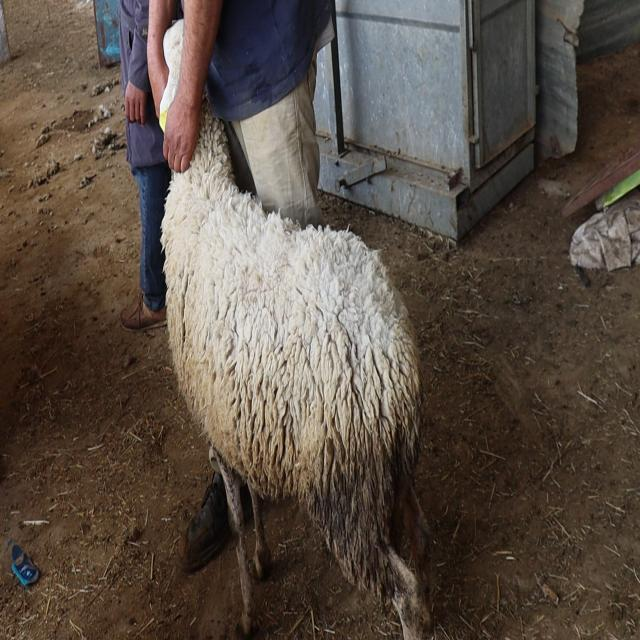Score_4: (161, 103, 431, 639)
